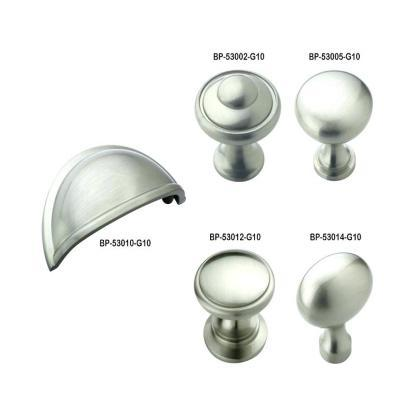knob: (192, 60, 278, 186), (292, 64, 376, 188), (194, 246, 275, 362), (294, 250, 374, 362)
